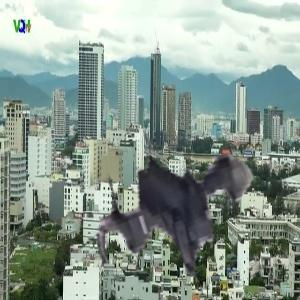drone: (69, 83, 267, 281)
